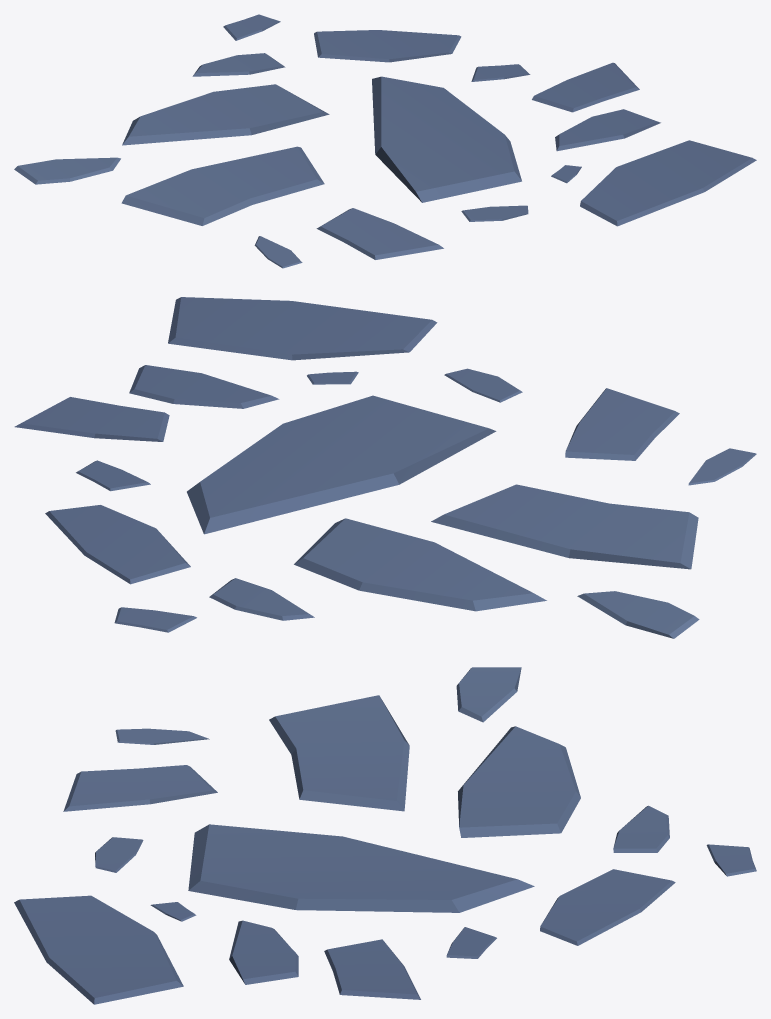
File: FRock_Big1l.fbx
The picture shows the model from 3 angles, top to bottom: view 1: azimuth 30°, elevation 25°; view 2: azimuth 150°, elevation 25°; view 3: azimuth 270°, elevation 25°; orthographic projection. The views are drawn at different scales.
Parts seen in each view (by area): view 1: rocks_big_1.001; view 2: rocks_big_1.001; view 3: rocks_big_1.001.
Boxes of the visible parts, x1=… form: rocks_big_1.001: x1=14, y1=14, x2=756, y2=268; rocks_big_1.001: x1=14, y1=297, x2=756, y2=638; rocks_big_1.001: x1=14, y1=667, x2=756, y2=1004.
Bounding box in the file's own units: 894 × 14.14 × 835.
Materials: 1 (1 with a texture image).
